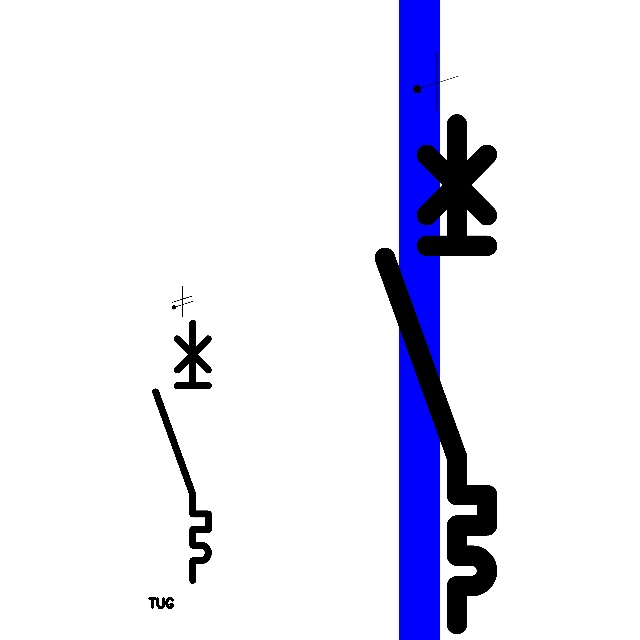interruptor_termomagnetico: (372, 111, 500, 636), (149, 316, 215, 587)
